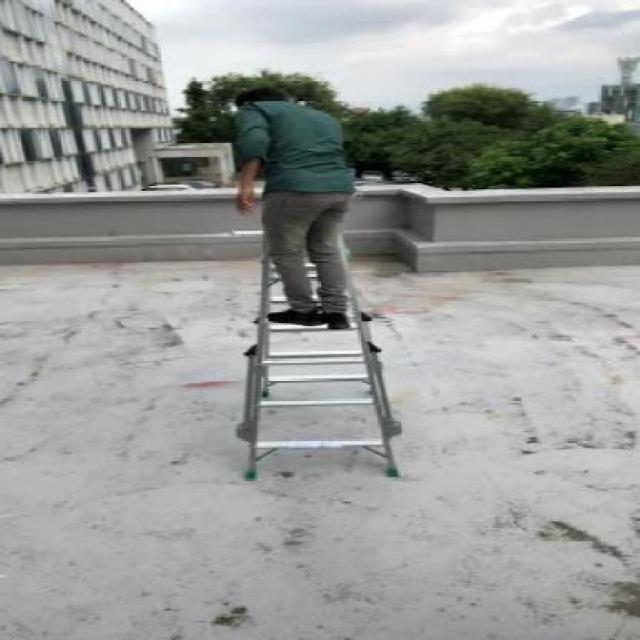hard hat: (217, 232, 443, 490)
vest: (187, 76, 366, 338)
